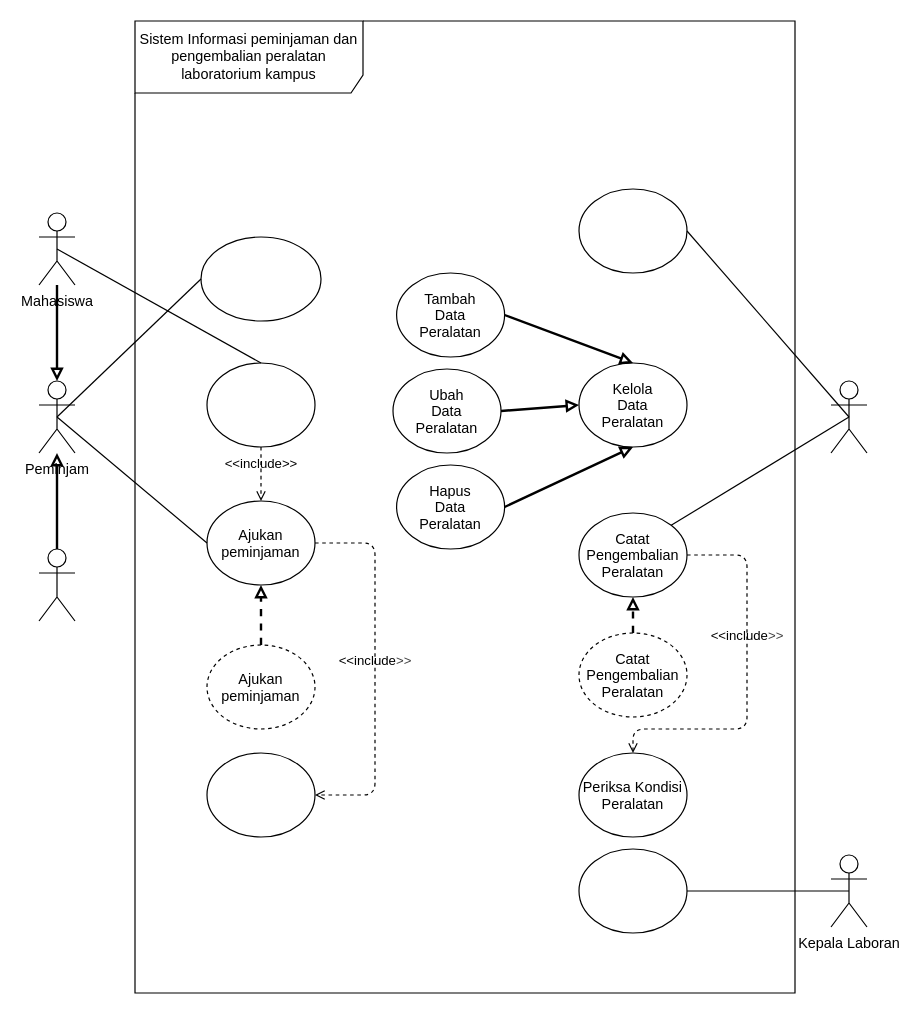
This 924x1014 diagram has some shape labels left out. Each missing label, with the centre of its shape:
"Cetak bukti pengajuan" belongs at point (260, 404).
"Dosen" belongs at point (56, 584).
"Lihat ketersediaan peralatan" belongs at point (260, 278).
"Lihat laporan peminjaman" belongs at point (632, 890).
"Periksa ketersediaan" belongs at point (260, 794).
"Petugas Laboran" belongs at point (848, 416).
"Proses Keputusan Peminjaman" belongs at point (632, 230).
